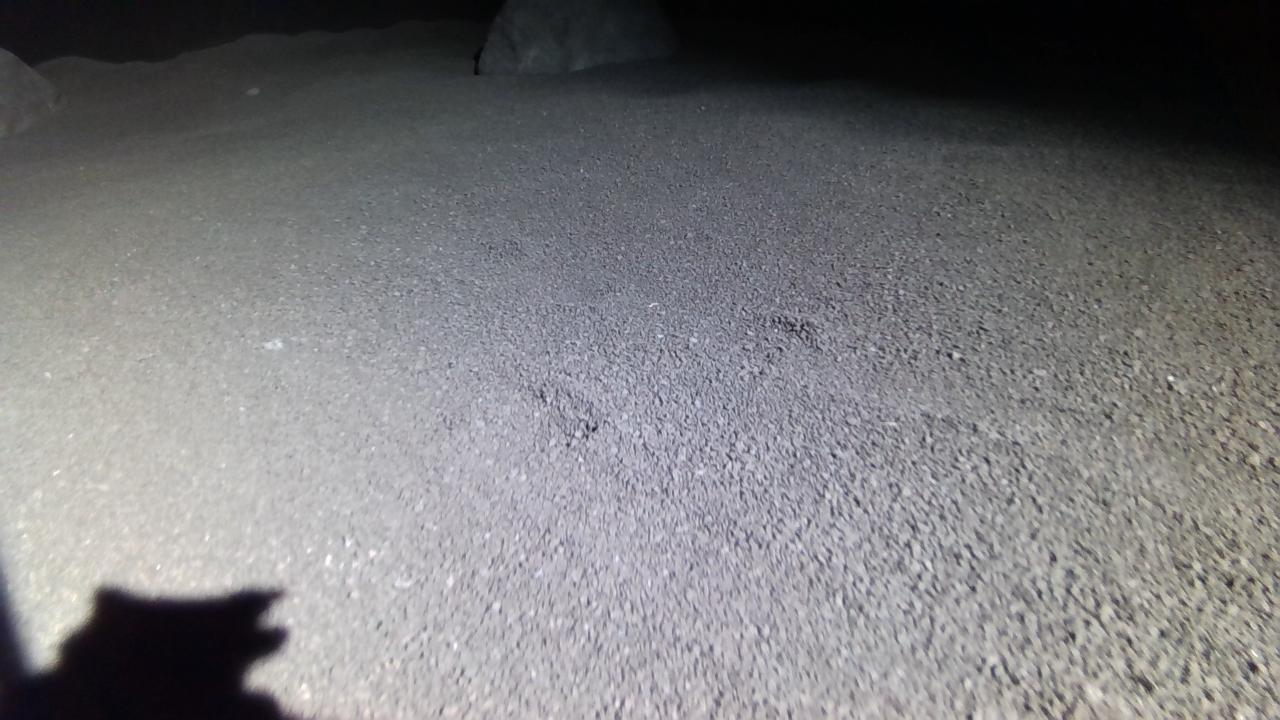rock: (478, 0, 678, 73), (0, 47, 56, 136)
